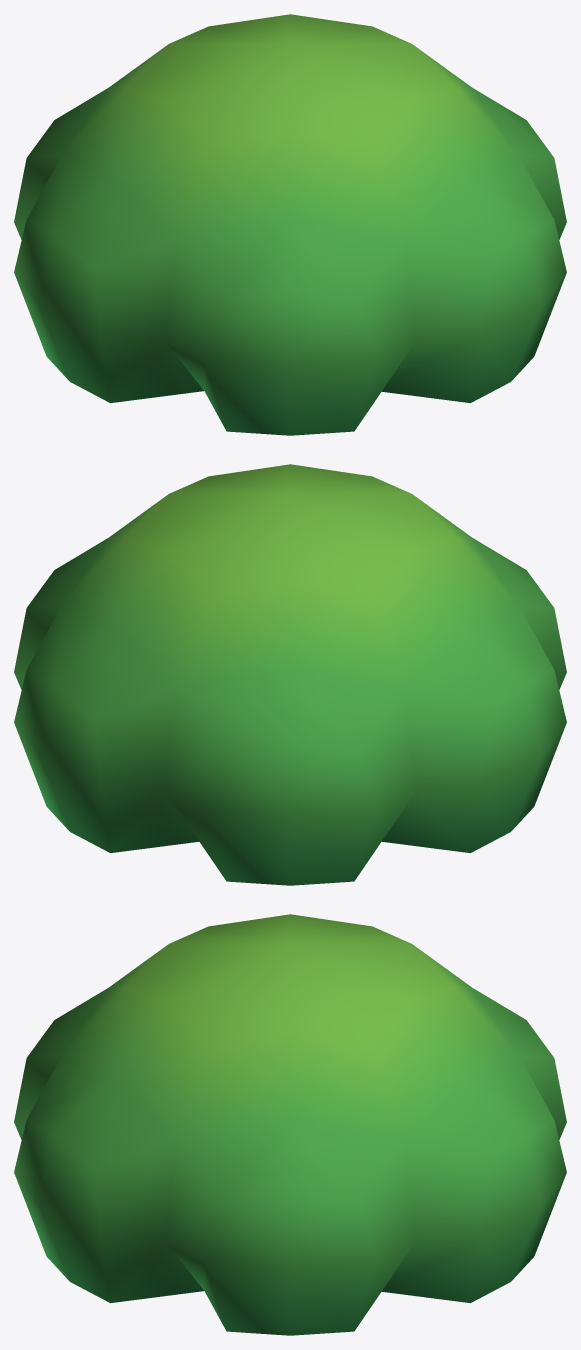
Rendered from bush.fbx.
3 renders of one model, top to bottom at view 1: azimuth 30°, elevation 25°; view 2: azimuth 150°, elevation 25°; view 3: azimuth 270°, elevation 25°, orthographic.
Parts seen in each view (by area): view 1: bush; view 2: bush; view 3: bush.
Boxes of the visible parts, bbox=[...] form: bush: bbox=[14, 14, 566, 435]; bush: bbox=[14, 464, 566, 885]; bush: bbox=[14, 914, 566, 1335].
Bounding box in the file's own units: 1 × 0.5385 × 0.9535.
